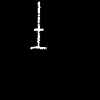double_crochet: (31, 2, 44, 48)
